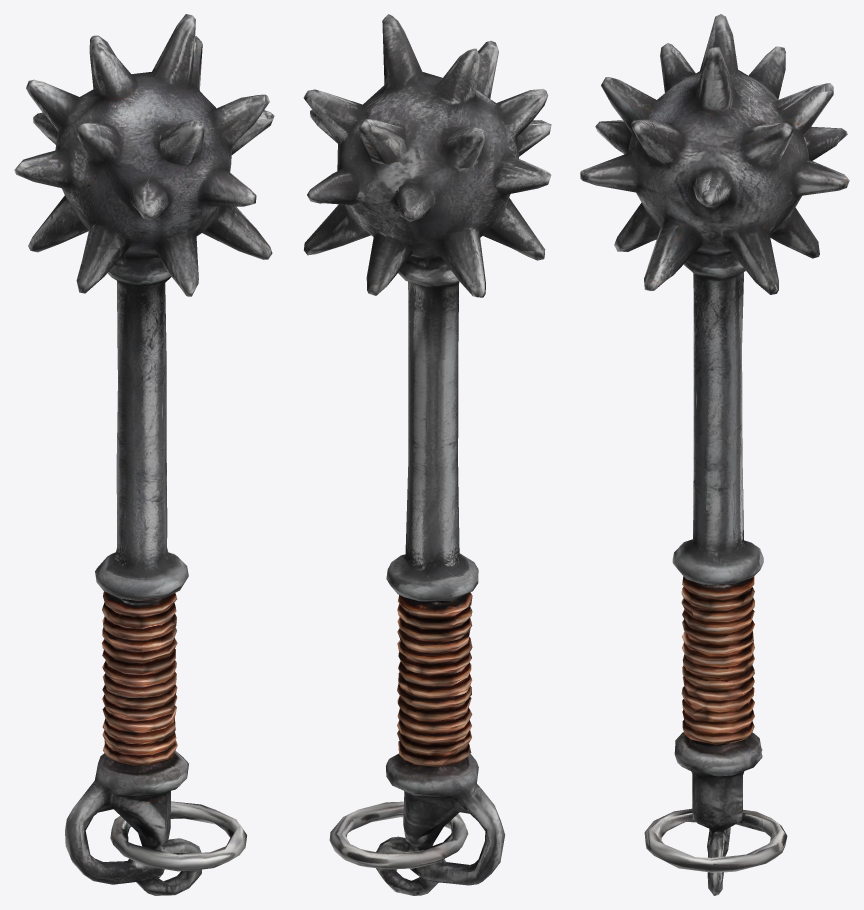
The model's file is 1560_flail.glb.
The picture shows the model from 3 angles, left to right: view 1: azimuth 30°, elevation 25°; view 2: azimuth 150°, elevation 25°; view 3: azimuth 270°, elevation 25°; orthographic projection. The views are drawn at different scales.
Parts seen in each view (by area): view 1: Model; view 2: Model; view 3: Model.
Boxes of the visible parts, x1,y1,x2,y2 form: Model: (14,14,274,895); Model: (303,14,551,895); Model: (580,14,849,895).
Bounding box in the file's own units: 0.2972 × 1 × 0.2865.
1 material, 1 textured.
